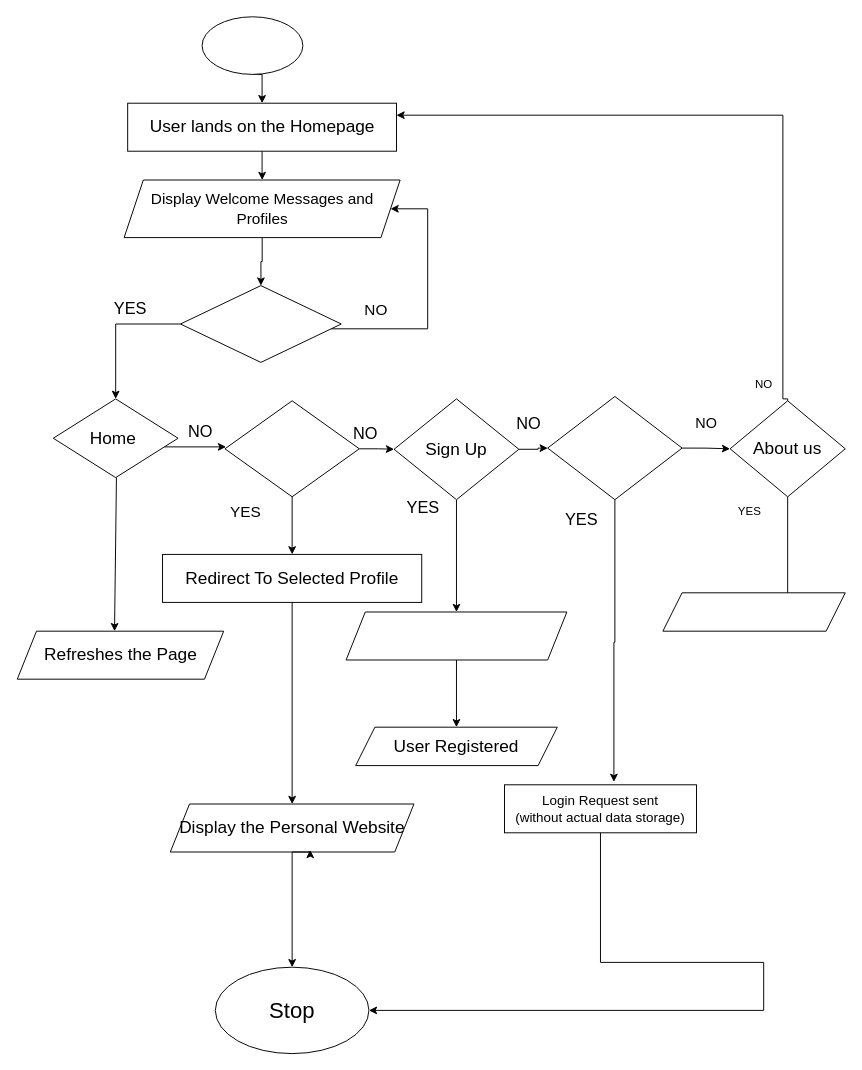
The diagram is 862 pixels wide and 1070 high, and some of its shapes have lost their labels. The centre of each missing label's shape, as x and y in pixels:
"Clicks" belongs at [260,323].
"Displays Information" belongs at [753,611].
"Enter Details" belongs at [456,635].
"Login" belongs at [614,448].
"Start" belongs at [252,45].
"View Profile" belongs at [291,448].
